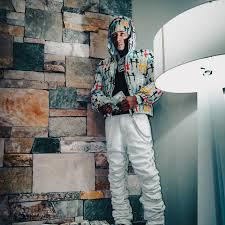quandale-dingle: (110, 16, 137, 55)
